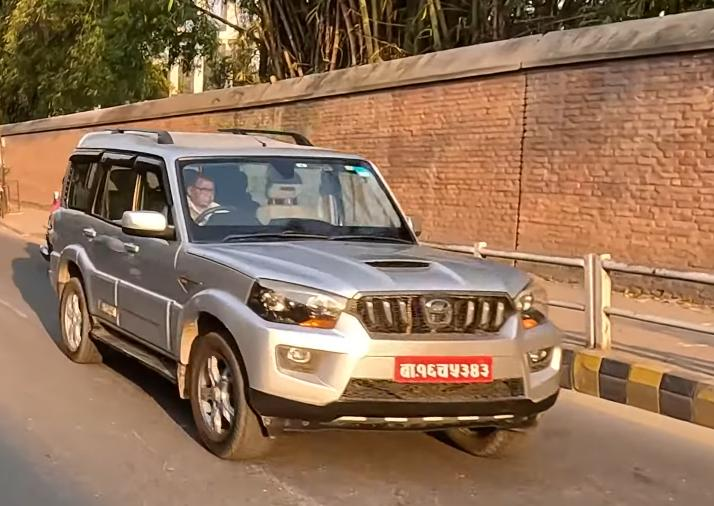SUV: (45, 118, 568, 470)
